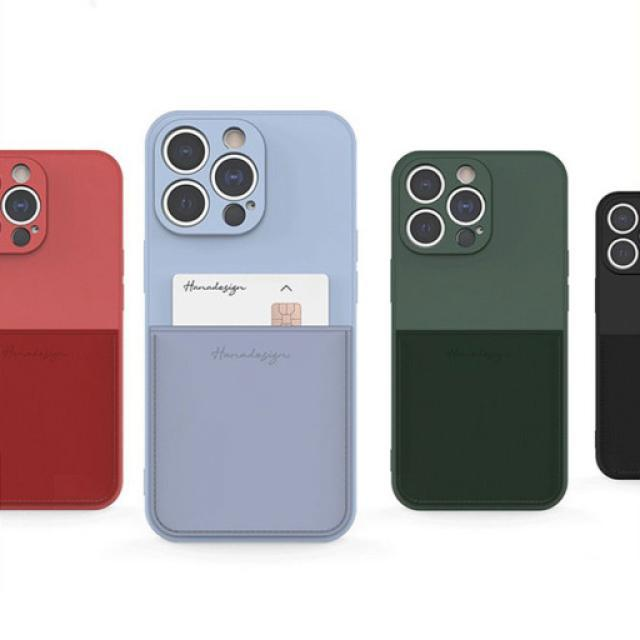phone: (142, 108, 356, 542), (390, 148, 570, 510)
